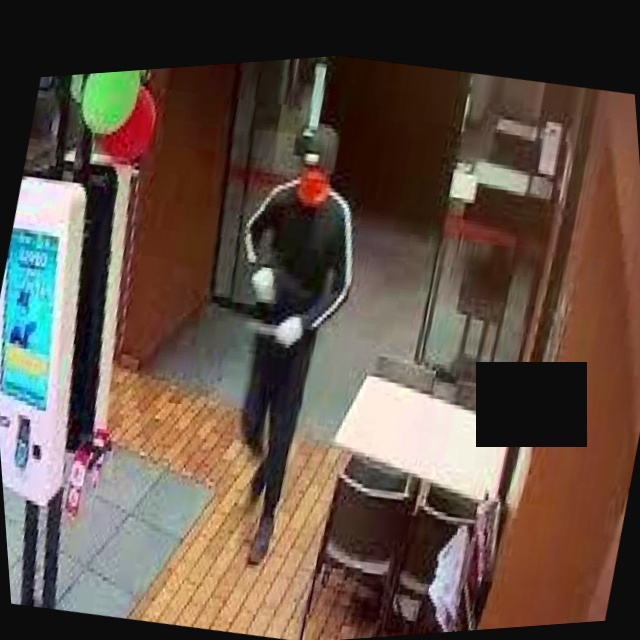gun: (238, 307, 291, 350)
